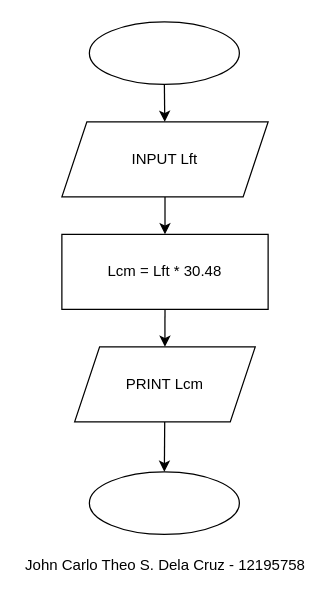
This 330x606 diagram has some shape labels left out. The centre of each missing label's shape, as x and y in pixels:
"End" goes at pixel 163 502.
"Start" goes at pixel 163 52.
